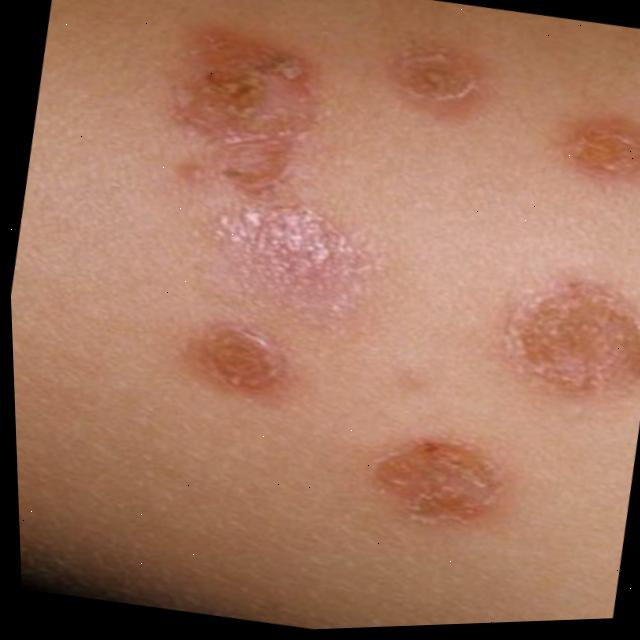Eczema: (169, 12, 324, 204), (496, 265, 640, 408), (361, 410, 511, 545), (184, 298, 287, 400), (386, 26, 484, 121), (548, 100, 640, 193)
